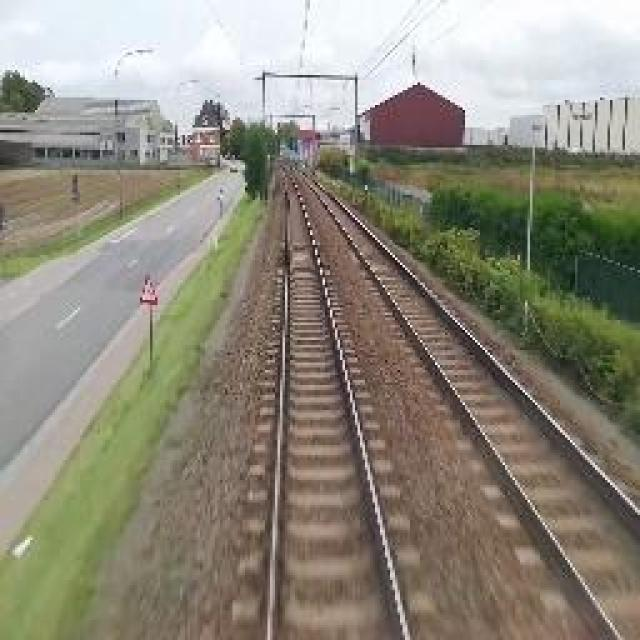rail: (233, 160, 440, 640)
